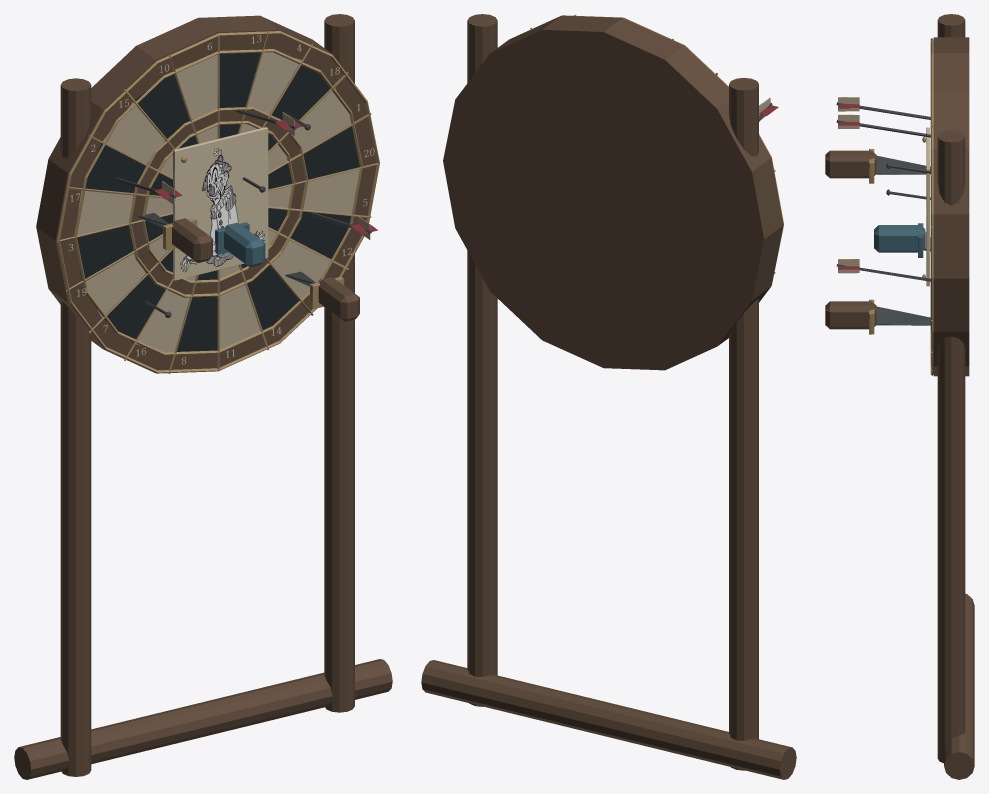
File: dartboard_mordecai.glb
The picture shows the model from 3 angles, left to right: view 1: azimuth 30°, elevation 25°; view 2: azimuth 150°, elevation 25°; view 3: azimuth 270°, elevation 25°; orthographic projection. The views are drawn at different scales.
Visible parts, largest first — view 1: dartboard_mordecai; view 2: dartboard_mordecai; view 3: dartboard_mordecai.
Boxes of the visible parts, x1=… form: dartboard_mordecai: x1=14, y1=14, x2=392, y2=779; dartboard_mordecai: x1=421, y1=14, x2=796, y2=779; dartboard_mordecai: x1=825, y1=14, x2=974, y2=779.
Bounding box in the file's own units: 0.96 × 1.81 × 0.379.
Materials: 10 (1 with a texture image).
